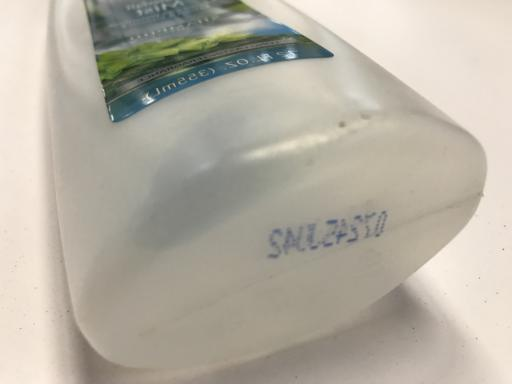plastic: (52, 1, 497, 371)
